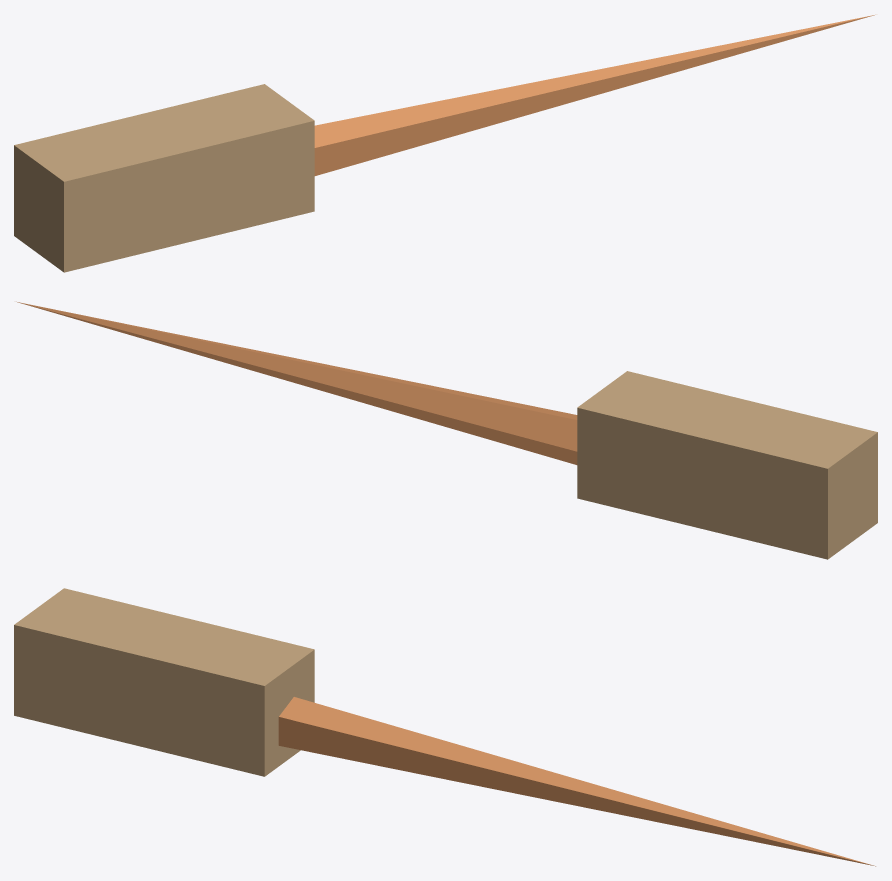
Rendered from item_080_copper_awl_s.glb.
3 views of the same model, one above another, from view 1: azimuth 30°, elevation 25°; view 2: azimuth 150°, elevation 25°; view 3: azimuth 330°, elevation 25° (orthographic).
Visible parts, largest first — view 1: item_080_copper_awl_s; view 2: item_080_copper_awl_s; view 3: item_080_copper_awl_s.
Part boxes in pixels (x1=…): item_080_copper_awl_s: x1=14, y1=14, x2=875, y2=272; item_080_copper_awl_s: x1=16, y1=301, x2=877, y2=559; item_080_copper_awl_s: x1=14, y1=588, x2=875, y2=866.
Size of the model in its own units: 0.435 by 0.045 by 0.045.
